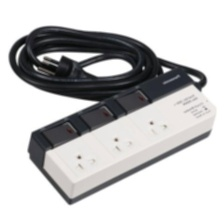three_eye_plug: (24, 63, 218, 207)
